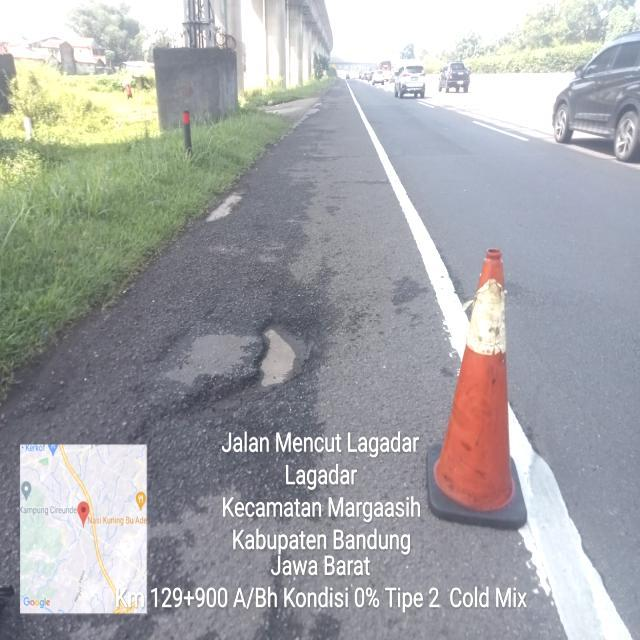Buraco: (212, 313, 320, 404), (199, 181, 253, 227)
